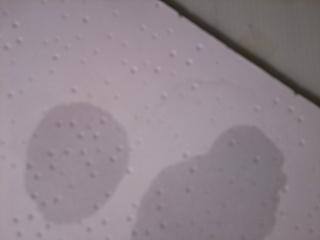Water_detected: (144, 146, 237, 240), (37, 110, 117, 208)
